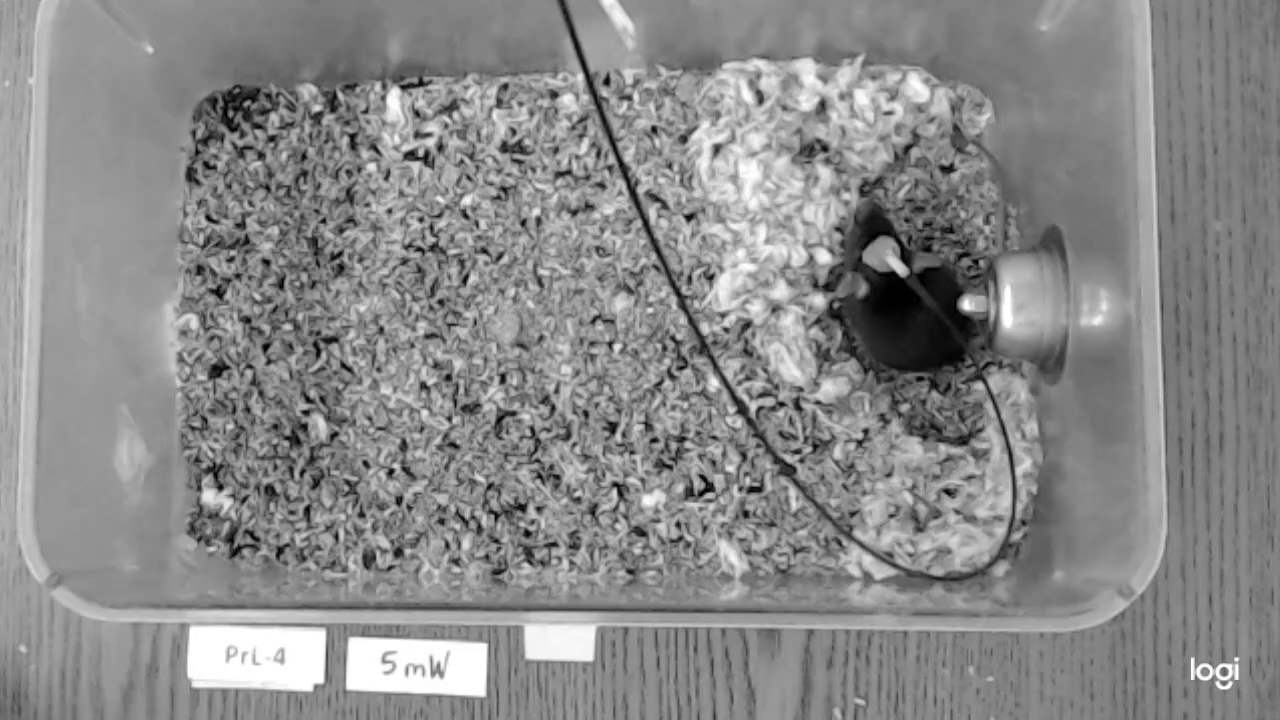parent-mice: (839, 199, 970, 370)
